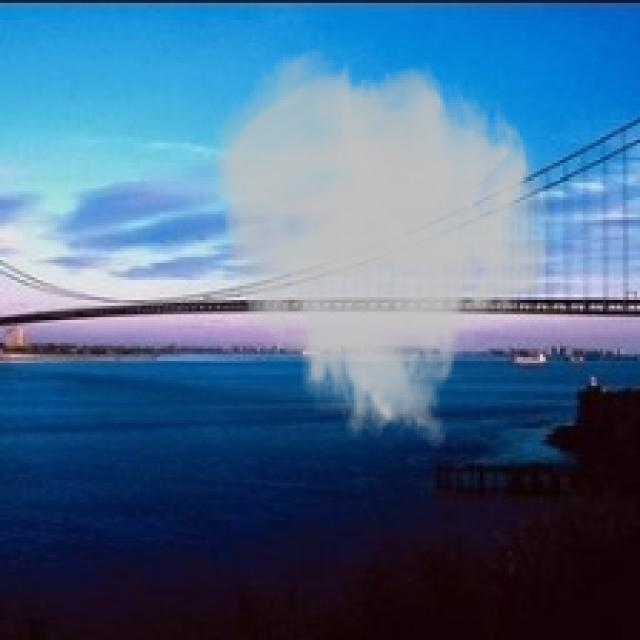smoke: (209, 46, 554, 451)
